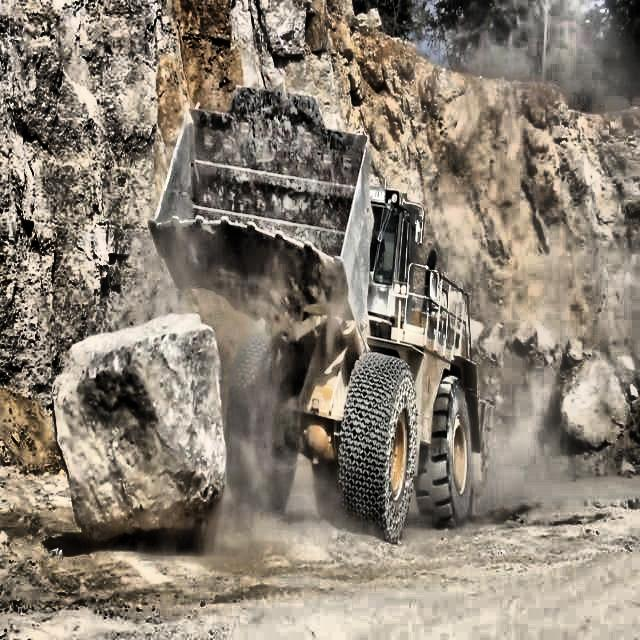bull_dozer/loader/grader: (148, 84, 494, 544)
